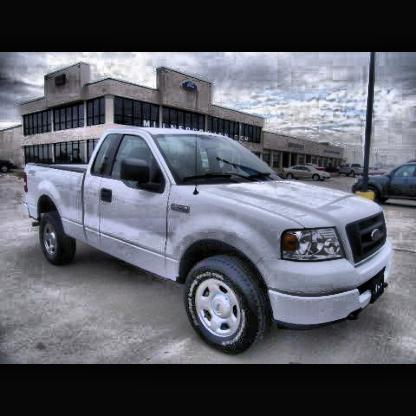Ford F-150 Regular Cab 2007: (26, 131, 393, 352)
